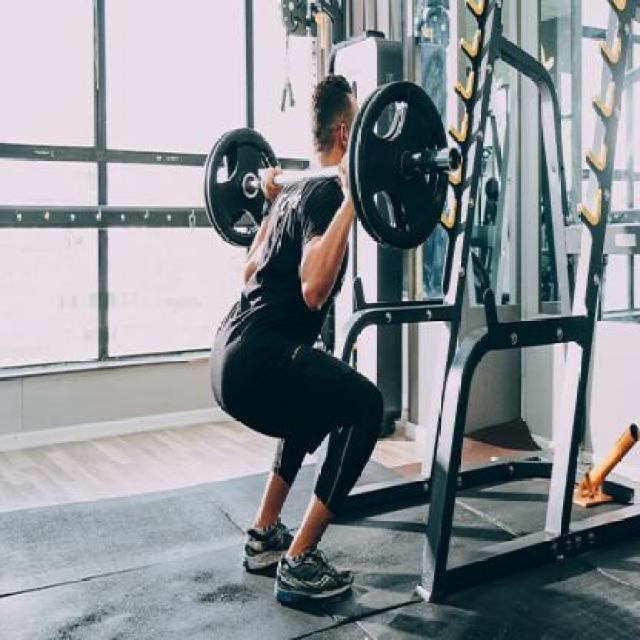Barbell: (446, 144, 463, 174)
